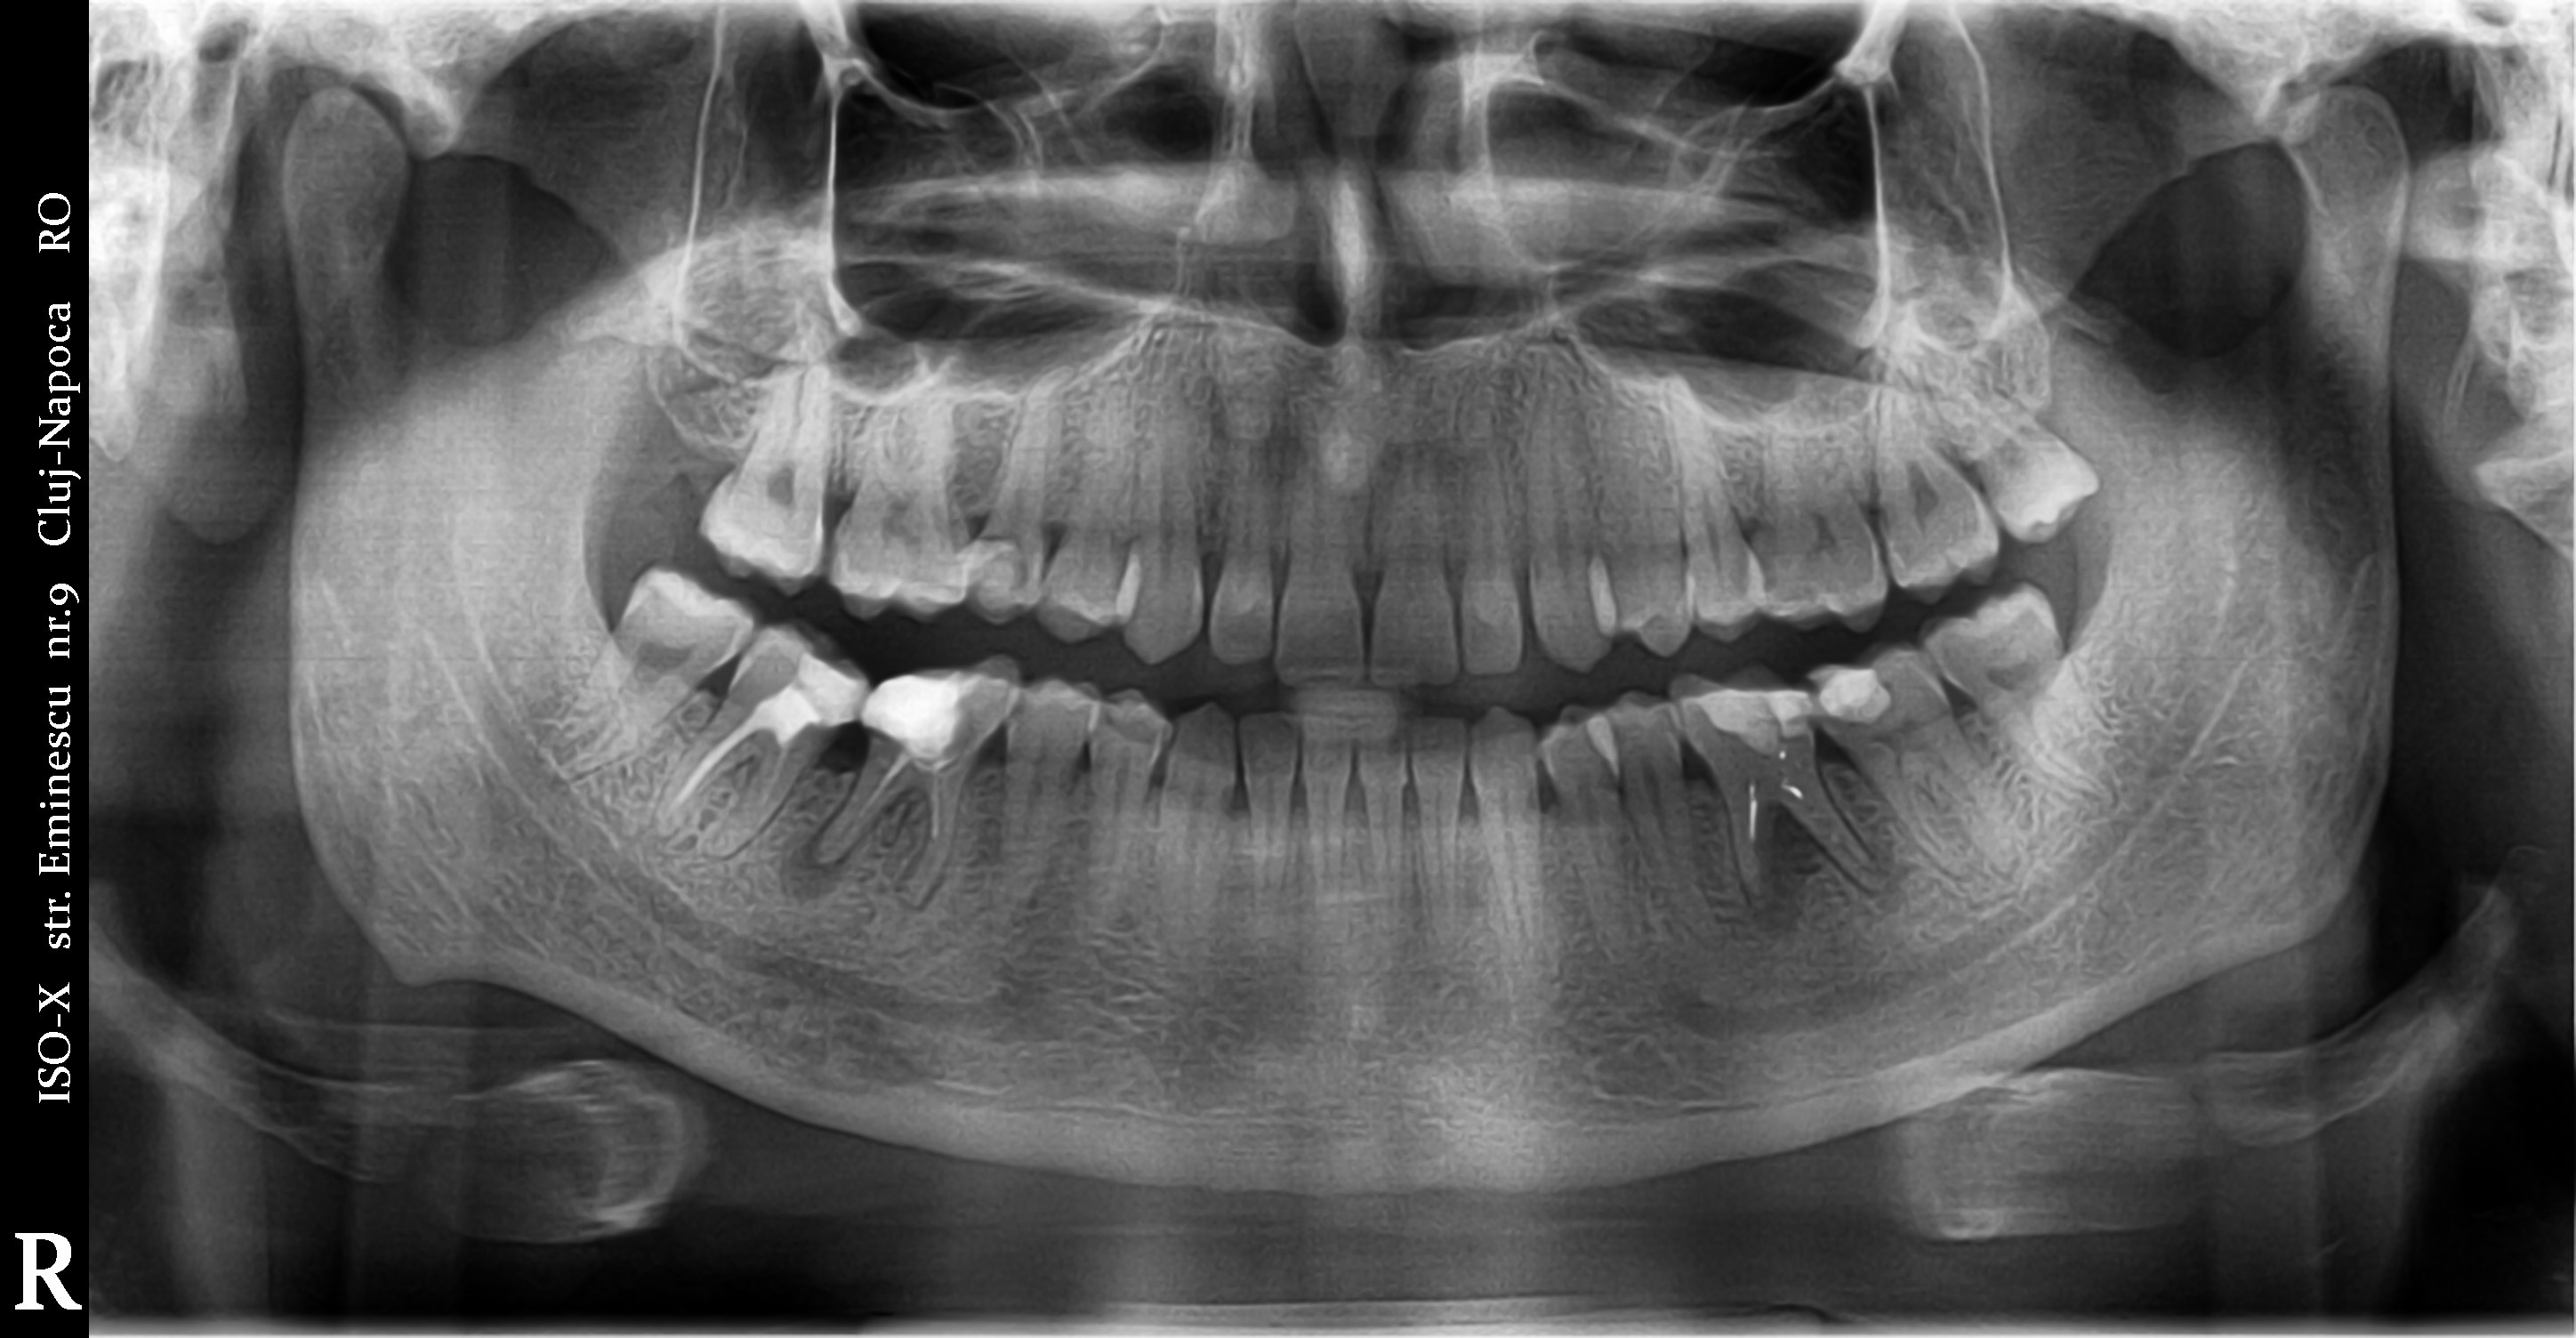API: (1714, 852, 1825, 956), (775, 811, 872, 920), (1833, 840, 1925, 939)
END: (831, 747, 971, 912), (635, 718, 809, 849)
FUR: (1729, 777, 1843, 883)
OBT: (852, 656, 1014, 770), (1678, 651, 1816, 774), (751, 639, 869, 747), (1796, 632, 1910, 738), (947, 540, 1046, 614)
